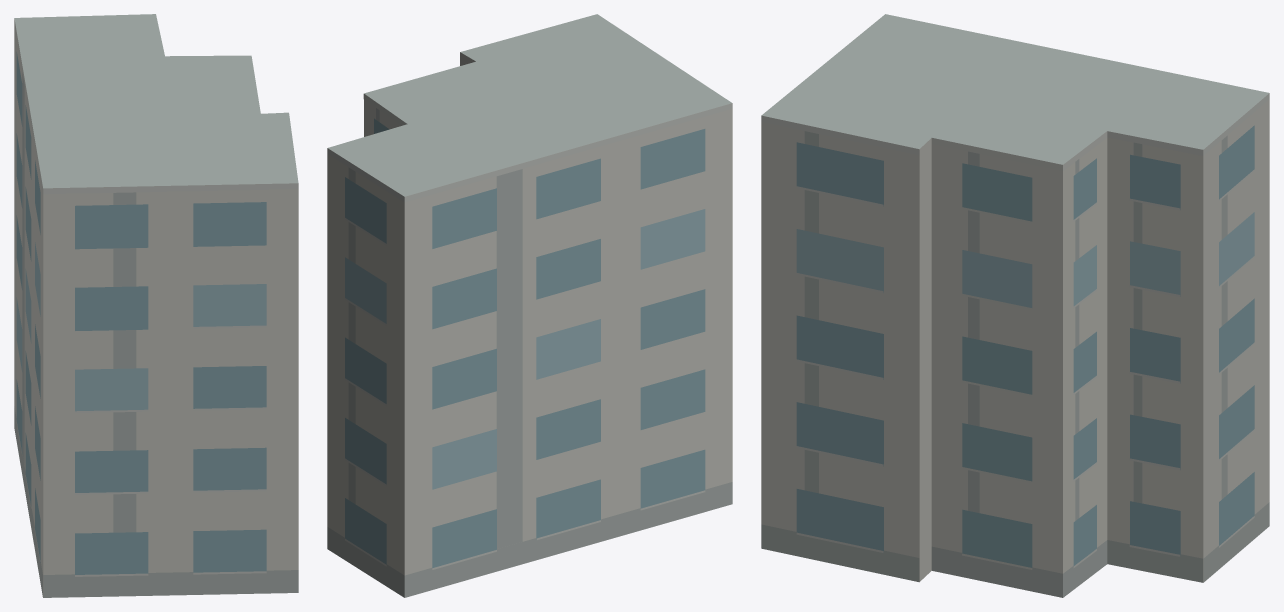
File: survey-upis-32947197.glb
3 views of the same model, side by side, from view 1: azimuth 30°, elevation 25°; view 2: azimuth 150°, elevation 25°; view 3: azimuth 270°, elevation 25° (orthographic). The views are drawn at different scales.
Parts seen in each view (by area): view 1: survey-upis-32947197.tmp; view 2: survey-upis-32947197.tmp; view 3: survey-upis-32947197.tmp.
Part boxes in pixels (<box>): survey-upis-32947197.tmp: <box>14,14,298,597</box>; survey-upis-32947197.tmp: <box>327,14,732,597</box>; survey-upis-32947197.tmp: <box>761,14,1269,597</box>.
Size of the model in its own units: 12.56 by 16.8 by 17.89.
